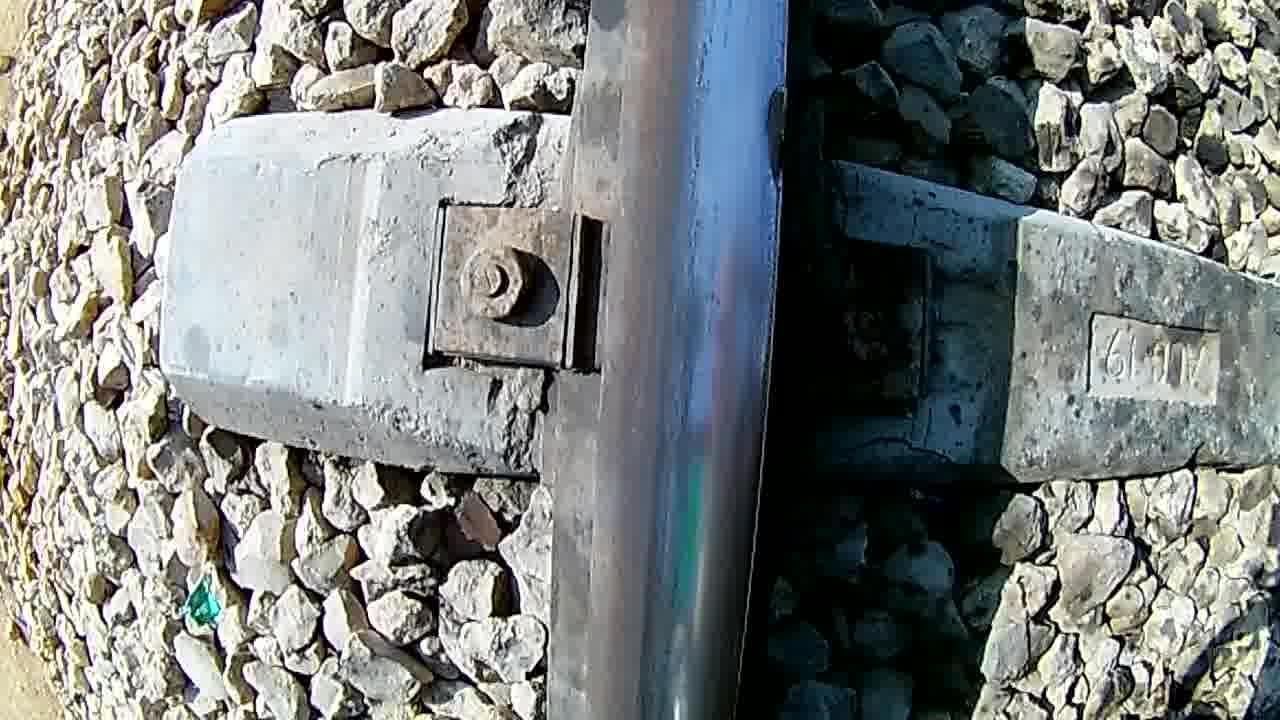crack: (581, 0, 759, 712)
